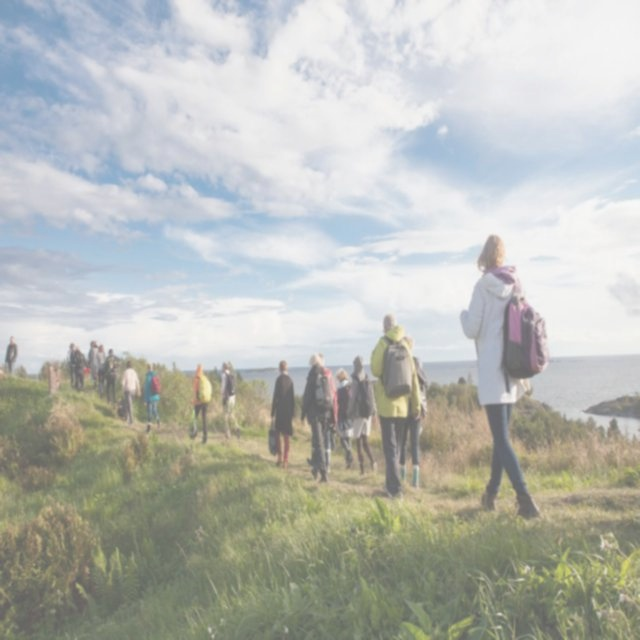pessoa: (458, 225, 552, 526), (366, 308, 417, 502), (398, 332, 429, 489), (300, 352, 336, 484), (344, 352, 380, 478), (306, 352, 338, 475), (270, 358, 296, 469), (334, 365, 355, 471), (188, 363, 212, 445), (220, 360, 242, 442), (116, 358, 142, 426), (144, 361, 162, 434), (104, 347, 120, 411), (72, 344, 90, 394), (94, 343, 107, 399), (4, 335, 20, 377), (86, 339, 100, 385), (89, 338, 100, 391), (67, 342, 77, 388)
